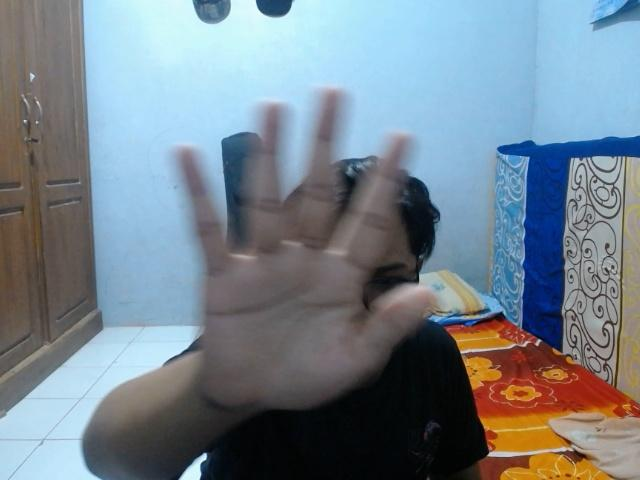Release: (162, 77, 447, 420)
